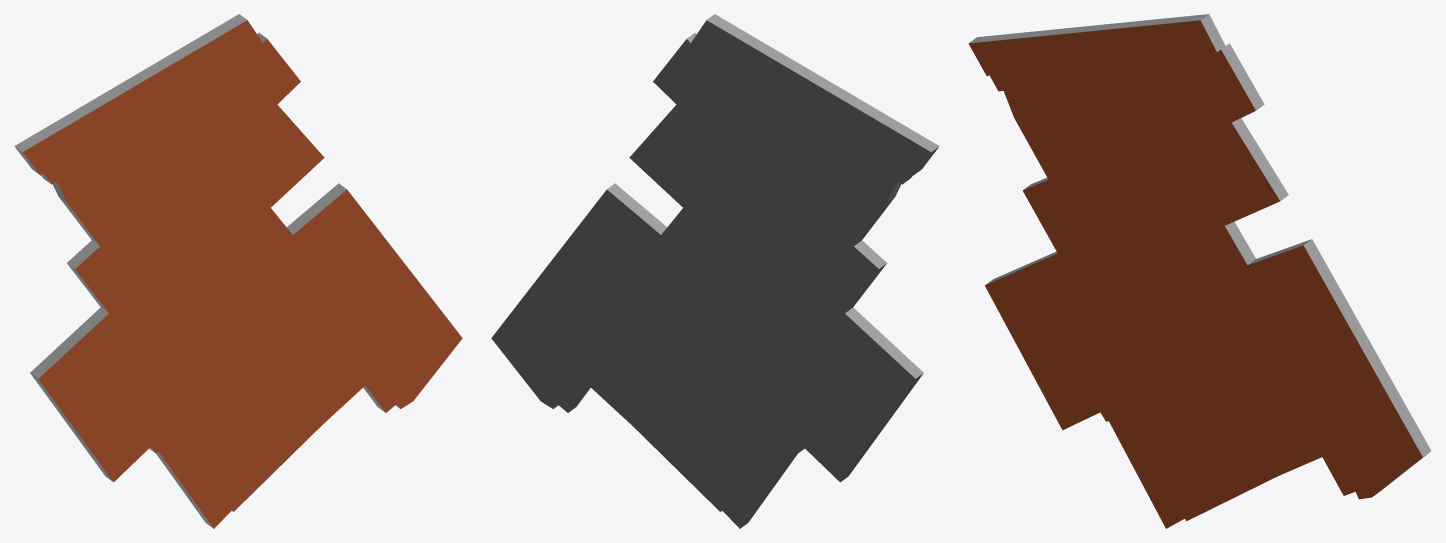
Rendered from construction_7215_assumed_A_Ruinas_h6m.obj.
3 renders of one model, left to right at view 1: azimuth 30°, elevation 25°; view 2: azimuth 150°, elevation 25°; view 3: azimuth 330°, elevation 25°, orthographic. The views are drawn at different scales.
Parts seen in each view (by area): view 1: construction_7215_assumed_A_Ruinas; view 2: construction_7215_assumed_A_Ruinas; view 3: construction_7215_assumed_A_Ruinas.
Boxes of the visible parts, x1,y1,x2,y2 form: construction_7215_assumed_A_Ruinas: (14, 14, 462, 528); construction_7215_assumed_A_Ruinas: (491, 14, 939, 528); construction_7215_assumed_A_Ruinas: (968, 14, 1431, 528).
Size of the model in its own units: 183 by 199 by 6.
